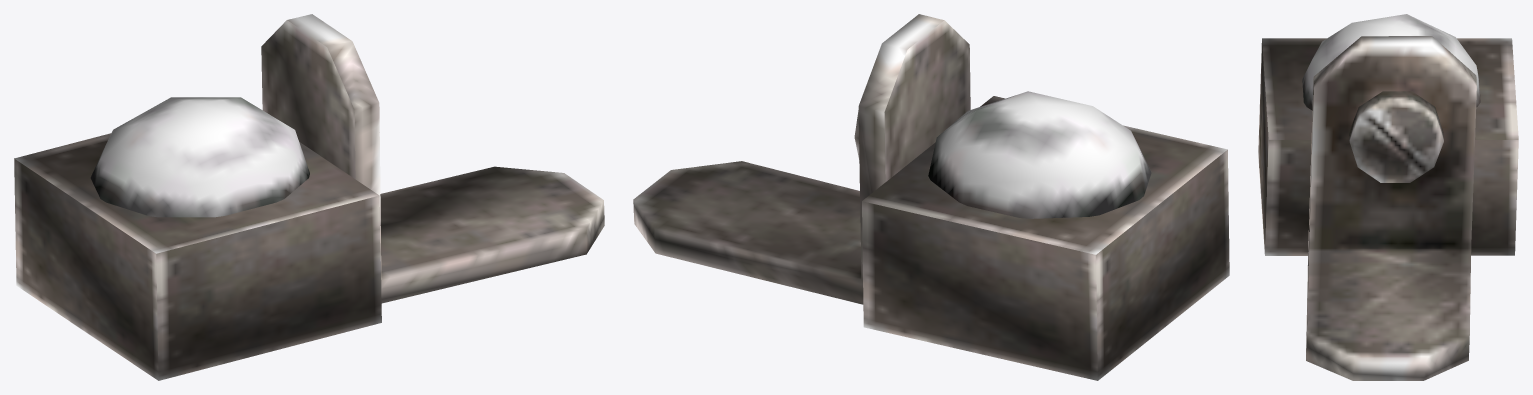
The model's file is Robot01.LeftFoot3.fbx.
3 renders of one model, left to right at view 1: azimuth 30°, elevation 25°; view 2: azimuth 150°, elevation 25°; view 3: azimuth 270°, elevation 25°, orthographic. The views are drawn at different scales.
Visible parts, largest first — view 1: Robot.019; view 2: Robot.019; view 3: Robot.019.
Part boxes in pixels (<box>): Robot.019: <box>14,14,604,380</box>; Robot.019: <box>633,14,1229,380</box>; Robot.019: <box>1258,14,1518,380</box>.
Bounding box in the file's own units: 65.68 × 30.16 × 31.96.
